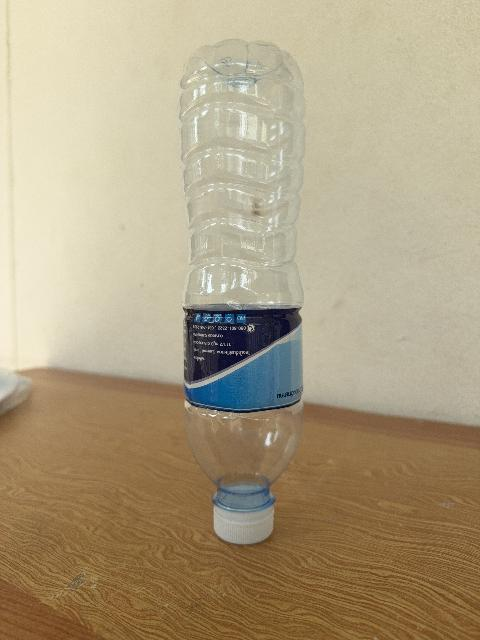bottle: (180, 40, 304, 543)
